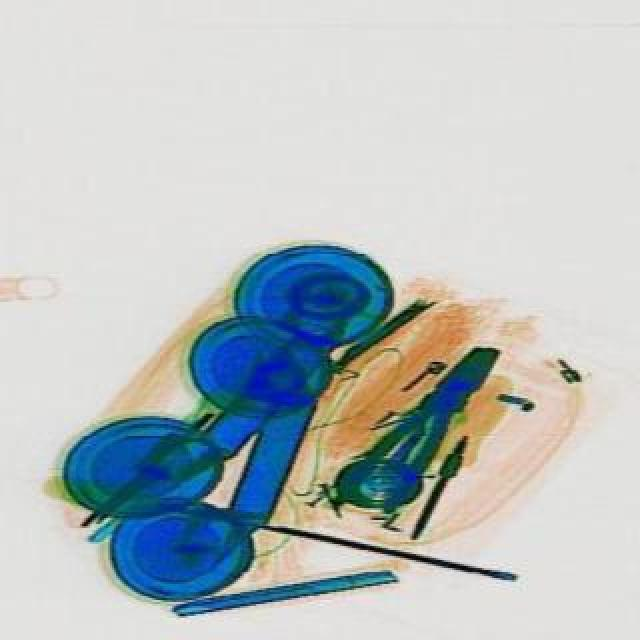wrench: (338, 330, 518, 524)
